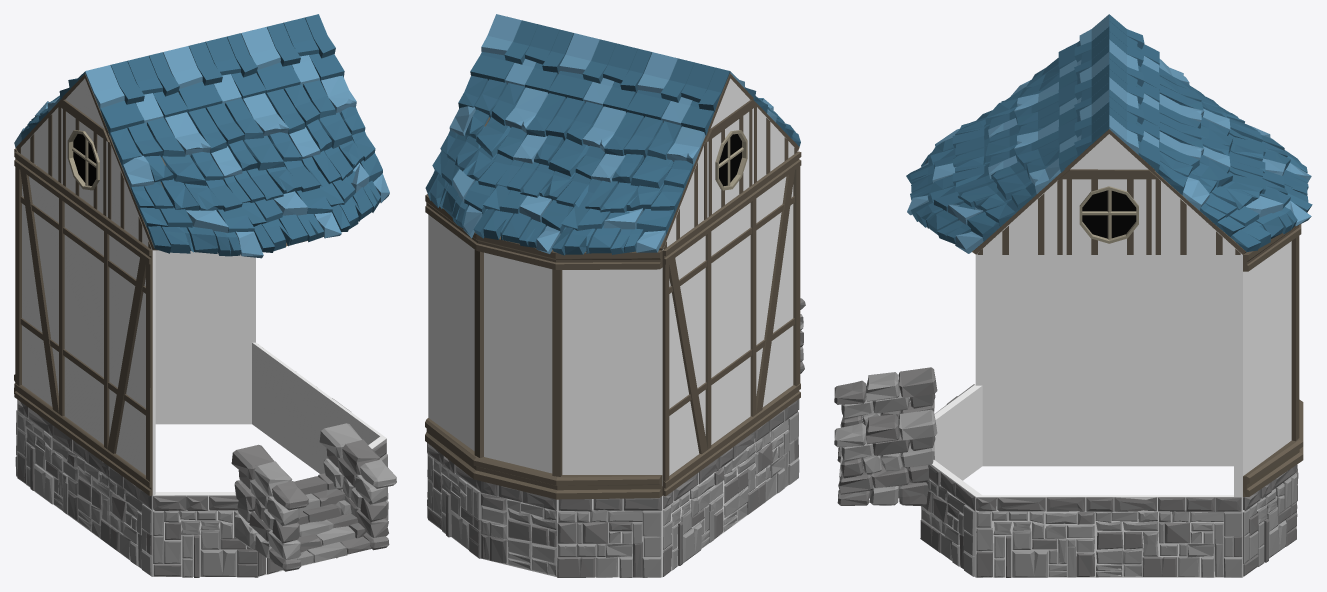
Rendered from House_15_parts.glb.
The picture shows the model from 3 angles, left to right: view 1: azimuth 30°, elevation 25°; view 2: azimuth 150°, elevation 25°; view 3: azimuth 270°, elevation 25°; orthographic projection.
Visible parts, largest first — view 1: ROOF_base_round_2, WALL_02_2, STSAIRS_07_2, FOUNDATION_02_24, WINDOW_01_Balkon_2, FOUNDATION_01_4, FOUNDATION_01_5, FOUNDATION_02_25, ROOF_base_small_4, ROOF_base_small_6, ROOF_base_small_5, ROOF_Window_round_3 (+4 smaller); view 2: WINDOW_01_Balkon_2, ROOF_base_round_3, WALL_02_2, FOUNDATION_01_5, FOUNDATION_02_24, ROOF_base_small_9, ROOF_base_small_8, ROOF_base_small_7, ROOF_Window_round_3, ROOF_trinagle_left_wood_3, ROOF_trinagle_right_wood_3, ROOF_triangles_up_wood_4 (+1 smaller); view 3: WALL_02_2, FOUNDATION_02_25, FOUNDATION_02_24, ROOF_base_round_2, ROOF_base_round_3, WINDOW_01_Balkon_2, STSAIRS_07_2, FOUNDATION_01_4, ROOF_Window_round_2, FOUNDATION_01_5, ROOF_trinagle_right_wood_2, ROOF_trinagle_left_wood_2 (+7 smaller).
Boxes of the visible parts, <box> form: ROOF_base_round_2: <box>107,75,389,258</box>; WALL_02_2: <box>14,151,155,495</box>; STSAIRS_07_2: <box>231,423,396,571</box>; FOUNDATION_02_24: <box>17,399,152,576</box>; WINDOW_01_Balkon_2: <box>14,148,255,393</box>; FOUNDATION_01_4: <box>152,435,388,577</box>; FOUNDATION_01_5: <box>15,342,251,476</box>; FOUNDATION_02_25: <box>252,342,381,473</box>; ROOF_base_small_4: <box>85,52,188,135</box>; ROOF_base_small_6: <box>241,14,344,95</box>; ROOF_base_small_5: <box>163,33,266,114</box>; ROOF_Window_round_3: <box>62,109,107,216</box>; WINDOW_01_Balkon_2: <box>425,194,662,499</box>; ROOF_base_round_3: <box>425,75,707,255</box>; WALL_02_2: <box>662,151,801,496</box>; FOUNDATION_01_5: <box>427,443,662,577</box>; FOUNDATION_02_24: <box>662,400,799,576</box>; ROOF_base_small_9: <box>626,52,730,135</box>; ROOF_base_small_8: <box>470,14,573,93</box>; ROOF_base_small_7: <box>548,33,651,112</box>; ROOF_Window_round_3: <box>708,109,752,216</box>; ROOF_trinagle_left_wood_3: <box>662,142,707,250</box>; ROOF_trinagle_right_wood_3: <box>753,106,797,183</box>; ROOF_triangles_up_wood_4: <box>705,78,756,142</box>; WALL_02_2: <box>975,255,1233,385</box>; FOUNDATION_02_25: <box>975,495,1242,577</box>; FOUNDATION_02_24: <box>982,385,1233,466</box>; ROOF_base_round_2: <box>906,58,1064,254</box>; ROOF_base_round_3: <box>1153,59,1312,254</box>; WINDOW_01_Balkon_2: <box>1234,224,1303,496</box>; STSAIRS_07_2: <box>834,367,937,506</box>; FOUNDATION_01_4: <box>920,384,984,577</box>; ROOF_Window_round_2: <box>1064,179,1153,254</box>; FOUNDATION_01_5: <box>1242,464,1298,577</box>; ROOF_trinagle_right_wood_2: <box>1153,179,1242,254</box>; ROOF_trinagle_left_wood_2: <box>976,179,1064,254</box>.
Bounding box in the file's own units: 3.09 × 5.59 × 5.37.
1 material, 1 textured.
